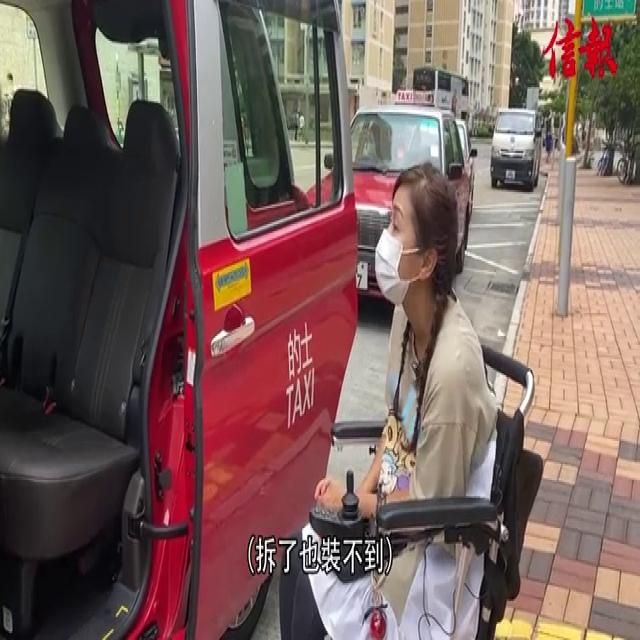wheelchairs: (304, 318, 548, 640)
